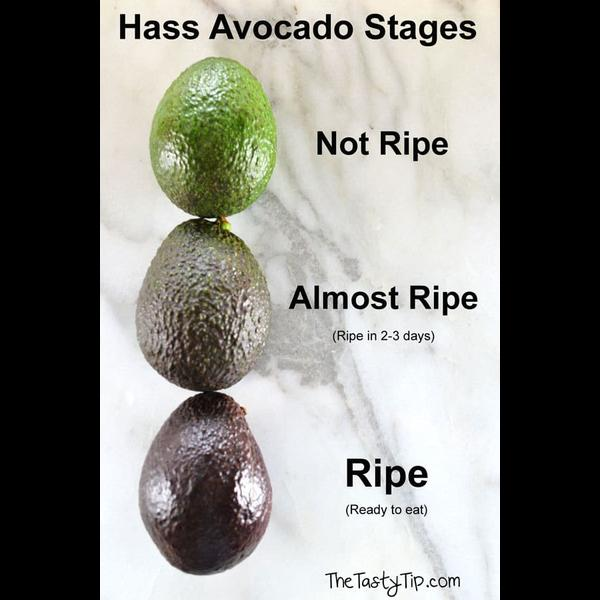almost: (135, 219, 272, 392)
ripe: (139, 392, 272, 575)
unripe: (149, 57, 277, 218)
